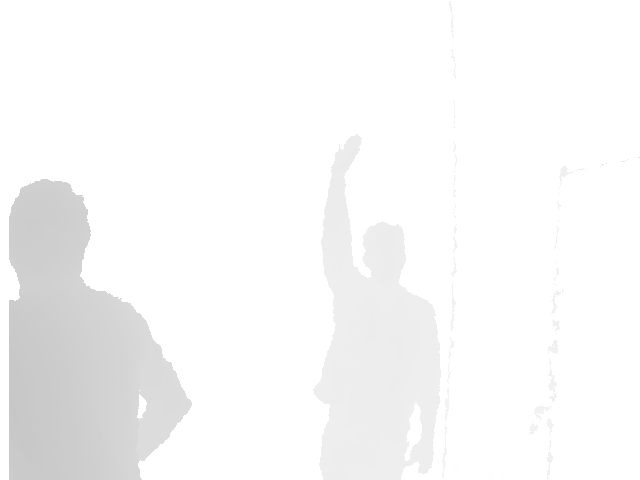hand: (331, 134, 361, 176)
head: (7, 177, 91, 298), (362, 222, 406, 288)
person: (8, 176, 194, 480), (312, 134, 442, 480)
